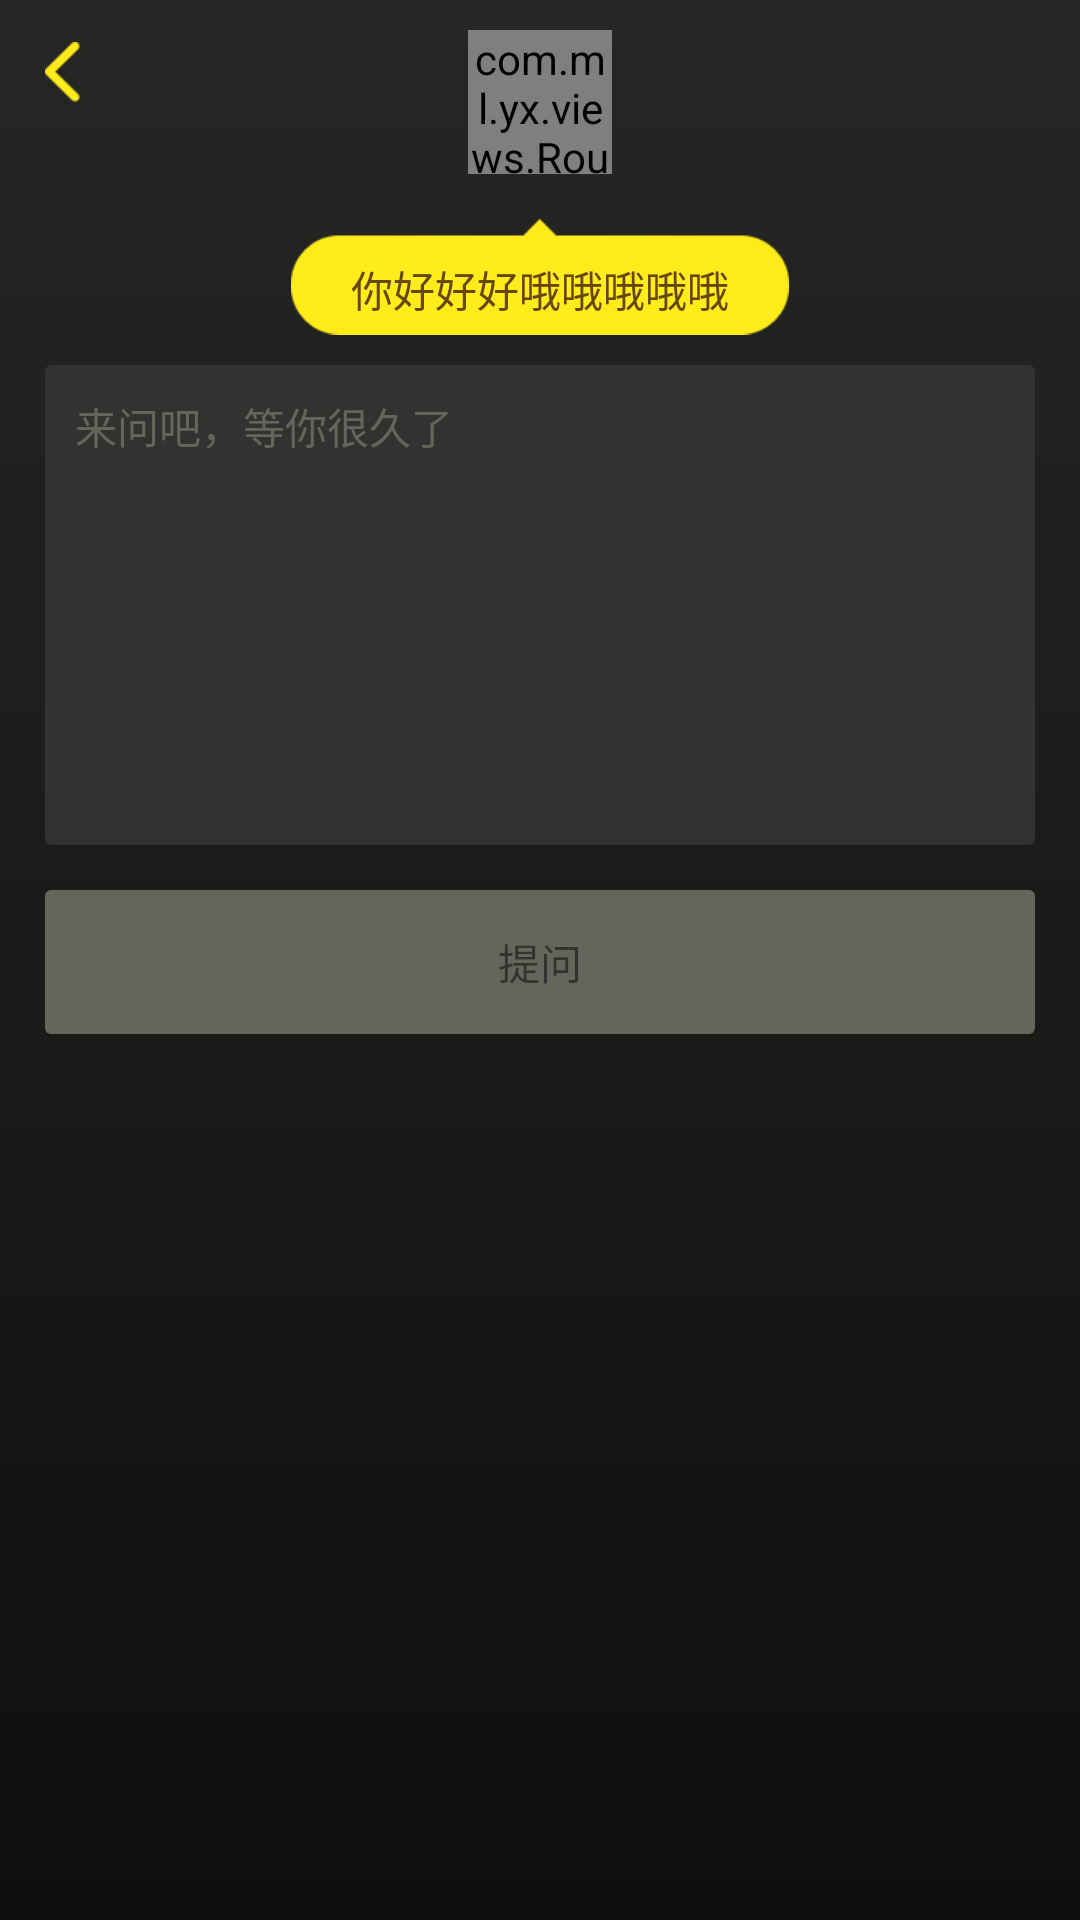

Screen size 1080px x 1920px. Icon name, then its center in pixels as (x=x, y=y):
back: (x=62, y=72)
